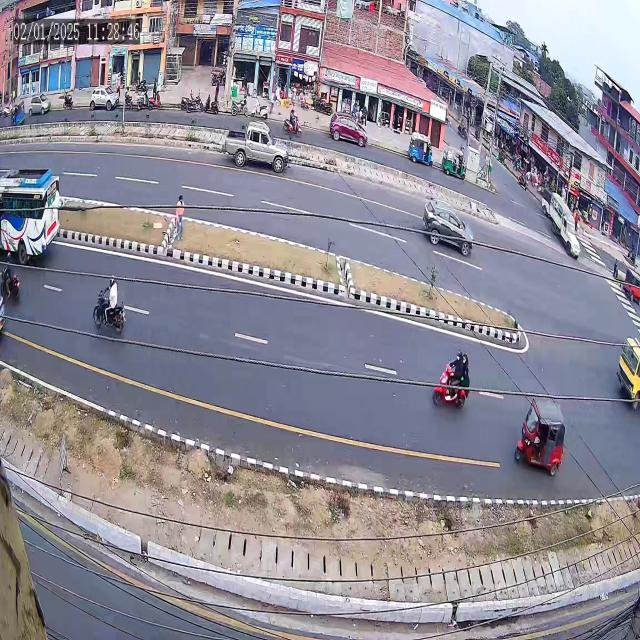auto: (508, 384, 574, 491)
car: (410, 192, 480, 266)
motorcycle: (422, 331, 476, 418), (83, 263, 136, 339)
